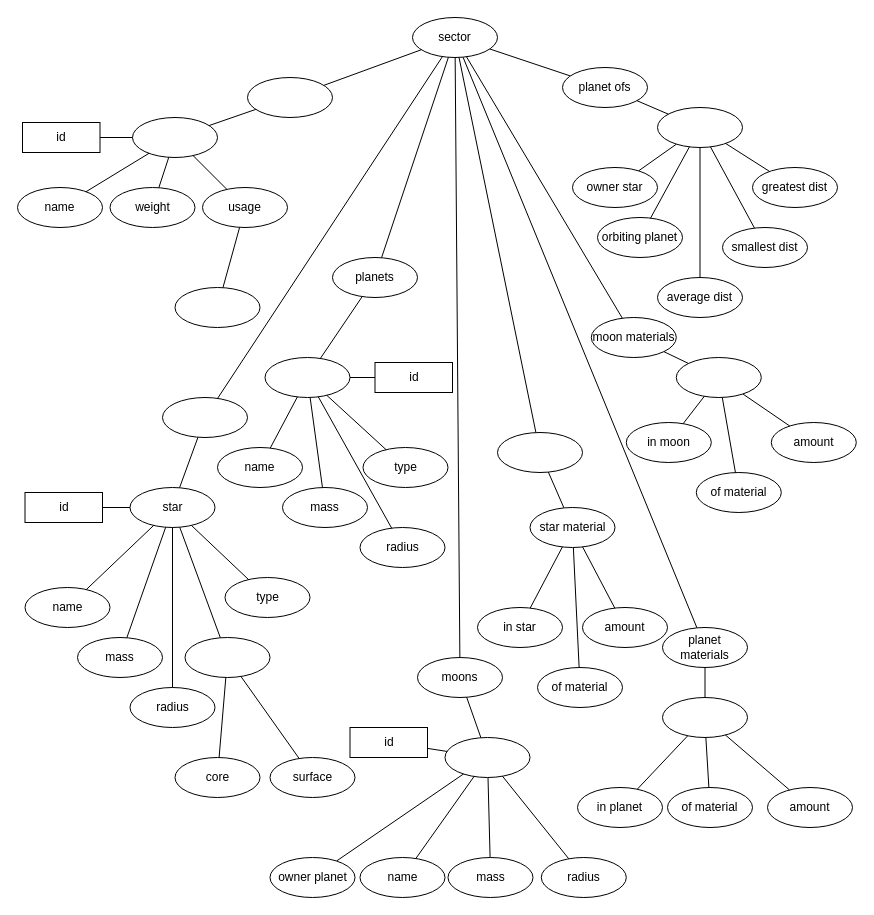
Some shapes in this 874 by 915 pixel diagram are drawn without their labels. Here are the shapes that lost their labels. From the top down, the box of each, then its label:
(246, 76, 332, 118): materials
(132, 116, 218, 158): material
(656, 106, 742, 148): planet of
(174, 286, 260, 328): use
(264, 356, 350, 398): planet
(675, 356, 761, 398): moon material
(162, 396, 248, 438): stars
(496, 432, 582, 472): star materials
(184, 636, 270, 678): heat
(662, 696, 748, 738): planet material
(444, 736, 530, 778): moon
